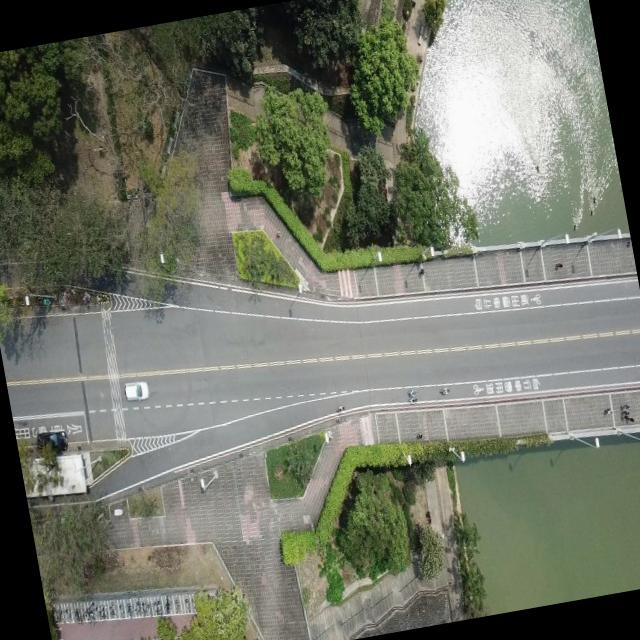bike: (436, 384, 450, 398)
car: (117, 373, 151, 406), (34, 426, 69, 455)
